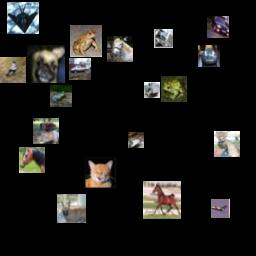airplane: (7, 2, 39, 34), (211, 199, 230, 218), (128, 132, 144, 148)
automobile: (69, 58, 91, 80), (198, 45, 220, 67), (207, 16, 229, 38)
bird: (0, 57, 26, 83)
cat: (83, 155, 118, 190), (214, 131, 240, 157)
dog: (27, 45, 65, 83), (57, 194, 86, 223), (33, 118, 59, 144)
frog: (70, 25, 102, 57), (161, 76, 187, 102), (50, 85, 72, 107)
truck: (154, 29, 173, 48), (144, 82, 160, 98)
